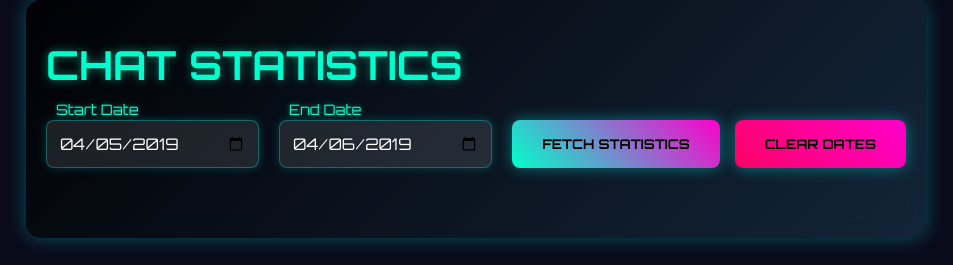
Scenario: StatsViewer › should clear start and end dates
Step 1. Click the button with class "clear-button" → {"x": 820, "y": 144}, box top-left (735, 120), bottom-right (906, 168)
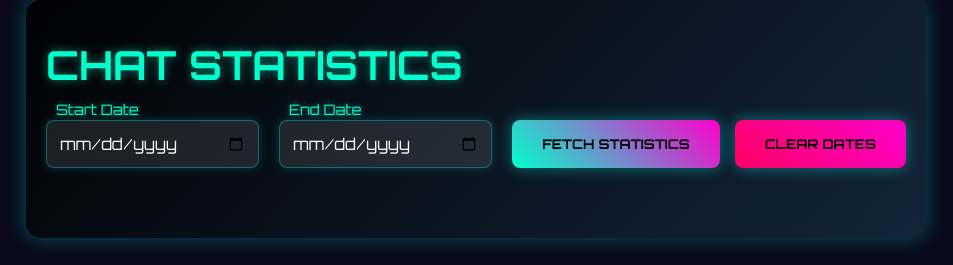
Check: the date field with id "startDate" is empty, box top-left (46, 120), bottom-right (259, 168)
Check: the date field with id "endDate" is empty, box top-left (279, 120), bottom-right (492, 168)
